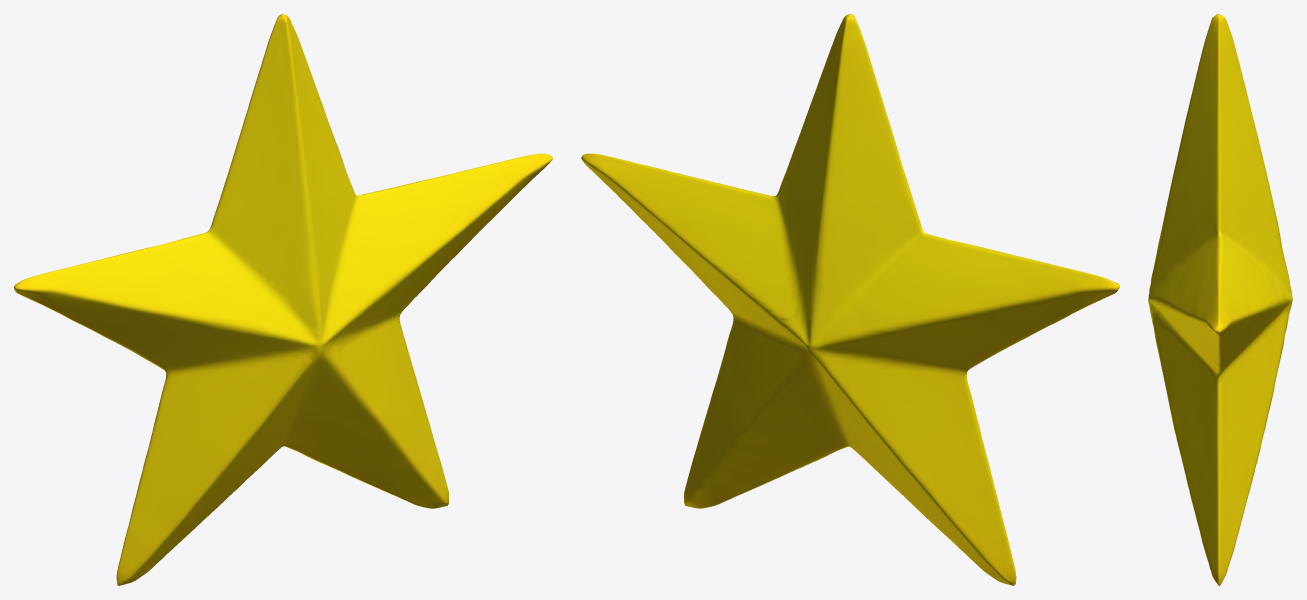
Rendered from generated_3d_1746145331336_base_basic_pbr.glb.
The picture shows the model from 3 angles, left to right: view 1: azimuth 30°, elevation 25°; view 2: azimuth 150°, elevation 25°; view 3: azimuth 270°, elevation 25°; orthographic projection. The views are drawn at different scales.
Parts seen in each view (by area): view 1: model; view 2: model; view 3: model.
Part boxes in pixels (x1=…): model: x1=14, y1=14, x2=552, y2=585; model: x1=581, y1=14, x2=1119, y2=585; model: x1=1148, y1=14, x2=1292, y2=585.
Size of the model in its own units: 1.9 by 1.8 by 0.4727.
1 material, 1 textured.
